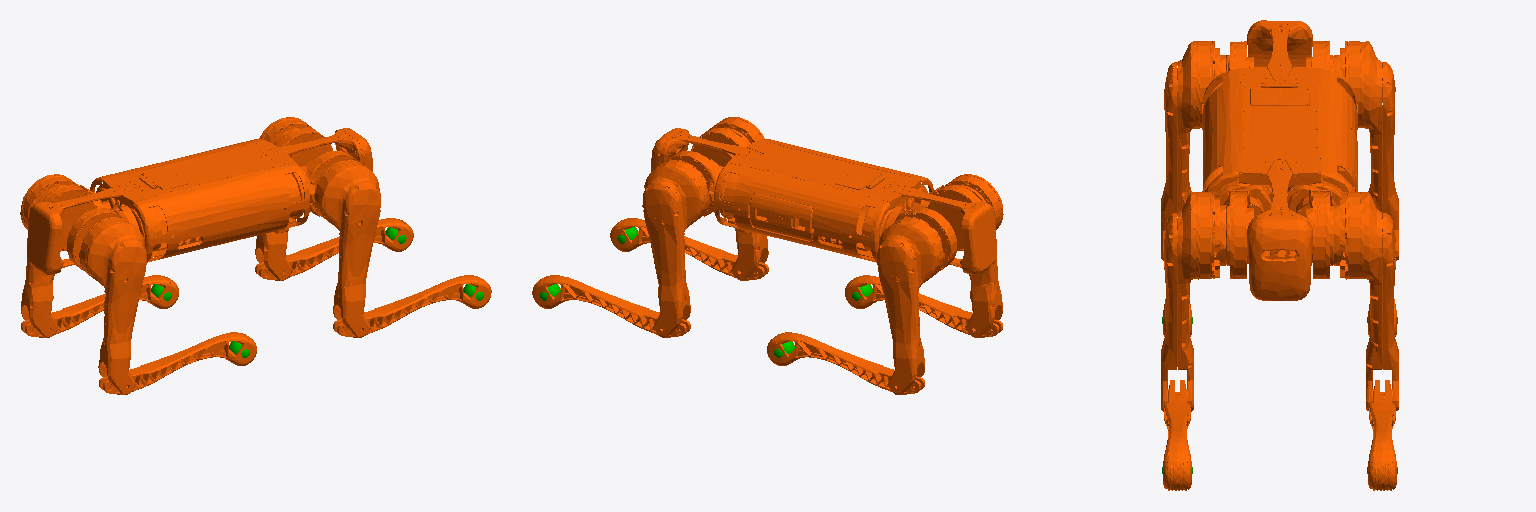
--- What the picture shows (computed from the rendered views, not written in the file) ---
3 views of the same robot in one strip: view 1: azimuth 30°, elevation 25°; view 2: azimuth 150°, elevation 25°; view 3: azimuth 270°, elevation 25° (orthographic).
Model b1_description with 31 links and 30 joints (12 revolute, 17 fixed, 1 floating), rooted at world, posed all joints at 0 but 4 set to mid-range because 0 is outside their limits (FR_calf_joint = -1.6, FL_calf_joint = -1.6, RR_calf_joint = -1.6, RL_calf_joint = -1.6).
Links seen in each view (by area): view 1: base, RR_thigh, FR_thigh, RL_thigh, RR_calf, FR_calf, RL_calf, FL_calf, FL_thigh, RL_hip, RR_hip, FL_hip (+1 smaller); view 2: base, FL_thigh, RL_thigh, RR_thigh, FL_calf, RL_calf, RR_calf, FR_calf, FR_thigh, RR_hip, RL_hip, FR_hip (+1 smaller); view 3: base, FR_thigh, FL_thigh, RR_thigh, RL_thigh, FR_calf, FL_calf, FR_hip, FL_hip, RL_hip, RR_hip.
Link boxes in pixels (x1=…): base: x1=27, y1=128, x2=372, y2=274; RR_thigh: x1=79, y1=217, x2=146, y2=394; FR_thigh: x1=314, y1=160, x2=380, y2=337; RL_thigh: x1=20, y1=174, x2=78, y2=337; RR_calf: x1=99, y1=332, x2=256, y2=394; FR_calf: x1=333, y1=275, x2=491, y2=337; RL_calf: x1=21, y1=275, x2=178, y2=337; FL_calf: x1=255, y1=218, x2=413, y2=280; FL_thigh: x1=255, y1=117, x2=314, y2=280; RL_hip: x1=42, y1=185, x2=110, y2=250; RR_hip: x1=67, y1=206, x2=139, y2=270; FL_hip: x1=274, y1=128, x2=332, y2=166; base: x1=651, y1=128, x2=996, y2=274; FL_thigh: x1=642, y1=160, x2=709, y2=337; RL_thigh: x1=877, y1=217, x2=944, y2=394; RR_thigh: x1=945, y1=174, x2=1003, y2=337; FL_calf: x1=532, y1=275, x2=690, y2=337; RL_calf: x1=767, y1=332, x2=924, y2=394; RR_calf: x1=845, y1=275, x2=1002, y2=337; FR_calf: x1=610, y1=218, x2=768, y2=280; FR_thigh: x1=708, y1=117, x2=768, y2=280; RR_hip: x1=913, y1=185, x2=981, y2=250; RL_hip: x1=885, y1=206, x2=956, y2=270; FR_hip: x1=691, y1=128, x2=749, y2=166; base: x1=1202, y1=20, x2=1357, y2=300; FR_thigh: x1=1161, y1=192, x2=1225, y2=411; FL_thigh: x1=1334, y1=192, x2=1398, y2=410; RR_thigh: x1=1161, y1=41, x2=1225, y2=260; RL_thigh: x1=1334, y1=41, x2=1398, y2=260; FR_calf: x1=1163, y1=380, x2=1191, y2=490; FL_calf: x1=1368, y1=380, x2=1396, y2=490; FR_hip: x1=1223, y1=185, x2=1264, y2=278; FL_hip: x1=1296, y1=185, x2=1335, y2=278; RL_hip: x1=1306, y1=41, x2=1333, y2=71; RR_hip: x1=1226, y1=41, x2=1253, y2=71.
Bounding box of the posed robot: 1.22 × 0.4614 × 0.4715 m (x, y, z).
Meshes: 5 distinct files referenced, 13 mesh visuals loaded (5 binary STL).

The robot description file, URDF, robot "b1_description":
<?xml version="1.0" ?>
<!-- =================================================================================== -->
<!-- |    This document was autogenerated by xacro from robot.xacro                    | -->
<!-- |    EDITING THIS FILE BY HAND IS NOT RECOMMENDED                                 | -->
<!-- =================================================================================== -->
<robot name="b1_description">

  <mujoco>
    <compiler 
    meshdir="../meshes/"
    discardvisual="false"
  />
  </mujoco>
  <link name="world"/>
  <joint name="floating_base" type="floating">
    <origin rpy="0 0 0" xyz="0 0 0"/>
    <parent link="world"/>
    <child link="base"/>
  </joint>
  <material name="black">
    <color rgba="0.0 0.0 0.0 1.0"/>
  </material>
  <material name="blue">
    <color rgba="0.0 0.0 0.8 1.0"/>
  </material>
  <material name="green">
    <color rgba="0.0 0.8 0.0 1.0"/>
  </material>
  <material name="grey">
    <color rgba="0.2 0.2 0.2 1.0"/>
  </material>
  <material name="silver">
    <color rgba="0.9137254901960784 0.9137254901960784 0.8470588235294118 1.0"/>
  </material>
  <material name="orange">
    <color rgba="1.0 0.4235294117647059 0.0392156862745098 1.0"/>
  </material>
  <material name="brown">
    <color rgba="0.8705882352941177 0.8117647058823529 0.7647058823529411 1.0"/>
  </material>
  <material name="red">
    <color rgba="0.8 0.0 0.0 1.0"/>
  </material>
  <material name="white">
    <color rgba="1.0 1.0 1.0 1.0"/>
  </material>

  <!-- Rotor related joint and link is only for demonstrate location. -->
  <!-- Actually, the rotor will rotate and the joint is not fixed. Reduction ratio should be considered. -->
  <!-- Debug mode will hung up the robot, use "true" or "false" to switch it. -->
  <!-- <xacro:if value="$(arg DEBUG)">
        <link name="world"/>
        <joint name="base_static_joint" type="fixed">
            <origin rpy="0 0 0" xyz="0 0 0"/>
            <parent link="world"/>
            <child link="base"/>
        </joint>
    </xacro:if>  -->
  <link name="base">
    <visual>
      <origin rpy="0 0 0" xyz="0 0 0"/>
      <geometry>
        <mesh filename="package://b1_description/meshes/trunk.stl" scale="1 1 1"/>
      </geometry>
      <material name="orange"/>
    </visual>
    <collision>
      <origin rpy="0 0 0" xyz="0 0 0"/>
      <geometry>
        <box size="0.647 0.3 0.15"/>
      </geometry>
    </collision>
    <!-- <collision>
            <origin rpy="0 0 0" xyz="0 0 0"/>
            <geometry>
                <mesh filename="package://b1_description/meshes/trunk.stl" scale="1 1 1"/>
            </geometry>
        </collision> -->
    <inertial>
      <origin rpy="0 0 0" xyz="0.008987 0.002243 0.003013"/>
      <mass value="25"/>
      <inertia ixx="0.183142146" ixy="-0.001379002" ixz="-0.027956055" iyy="0.756327752" iyz="0.000193774" izz="0.783777558"/>
    </inertial>
  </link>
  <joint name="imu_joint" type="fixed">
    <parent link="base"/>
    <child link="imu_link"/>
    <origin rpy="0 0 0" xyz="0 0 0"/>
  </joint>
  <link name="imu_link">
    <inertial>
      <mass value="0.001"/>
      <origin rpy="0 0 0" xyz="0 0 0"/>
      <inertia ixx="0.0001" ixy="0" ixz="0" iyy="0.000001" iyz="0" izz="0.0001"/>
    </inertial>
    <visual>
      <origin rpy="0 0 0" xyz="0 0 0"/>
      <geometry>
        <box size="0.001 0.001 0.001"/>
      </geometry>
      <material name="red"/>
    </visual>
    <collision>
      <origin rpy="0 0 0" xyz="0 0 0"/>
      <geometry>
        <box size=".001 .001 .001"/>
      </geometry>
    </collision>
  </link>
  <joint name="FR_hip_joint" type="revolute">
    <origin rpy="0 0 0" xyz="0.3455 -0.072 0"/>
    <parent link="base"/>
    <child link="FR_hip"/>
    <axis xyz="1 0 0"/>
    <dynamics damping="0" friction="0"/>
    <limit effort="91.0035" lower="-0.75" upper="0.75" velocity="19.69"/>
  </joint>
  <joint name="FR_hip_rotor_joint" type="fixed">
    <origin rpy="0 0 0" xyz="0.1955 -0.072 0"/>
    <parent link="base"/>
    <child link="FR_hip_rotor"/>
  </joint>
  <link name="FR_hip">
    <visual>
      <origin rpy="3.141592653589793 0 0" xyz="0 0 0"/>
      <geometry>
        <mesh filename="package://b1_description/meshes/hip.stl" scale="1 1 1"/>
      </geometry>
      <material name="orange"/>
    </visual>
    <collision>
      <origin rpy="1.5707963267948966 0 0" xyz="0 -0.12675 0"/>
      <geometry>
        <cylinder length="0.04" radius="0.09"/>
      </geometry>
    </collision>
    <inertial>
      <origin rpy="0 0 0" xyz="-0.020298 -0.009758 0.000109"/>
      <mass value="2.1"/>
      <inertia ixx="0.00406608" ixy="0.000288071" ixz="-4.371e-06" iyy="0.008775259" iyz="-1.811e-06" izz="0.006060348"/>
    </inertial>
  </link>
  <link name="FR_hip_rotor">
    <visual>
      <origin rpy="0 1.5707963267948966 0" xyz="0 0 0"/>
      <geometry>
        <cylinder length="0.02" radius="0.05"/>
      </geometry>
      <material name="green"/>
    </visual>
    <collision>
      <origin rpy="0 1.5707963267948966 0" xyz="0 0 0"/>
      <geometry>
        <cylinder length="0.02" radius="0.05"/>
      </geometry>
    </collision>
    <inertial>
      <origin rpy="0 0 0" xyz="0.0 0.0 0.0"/>
      <mass value="0.199"/>
      <inertia ixx="0.00039249" ixy="0.0" ixz="0.0" iyy="0.000219397" iyz="0.0" izz="0.000219397"/>
    </inertial>
  </link>
  <joint name="FR_thigh_joint" type="revolute">
    <origin rpy="0 0 0" xyz="0 -0.12675 0"/>
    <parent link="FR_hip"/>
    <child link="FR_thigh"/>
    <axis xyz="0 1 0"/>
    <dynamics damping="0" friction="0"/>
    <limit effort="93.33" lower="-1.0" upper="3.5" velocity="23.32"/>
  </joint>
  <joint name="FR_thigh_rotor_joint" type="fixed">
    <origin rpy="0 0 0" xyz="0.0 -0.00935 0"/>
    <parent link="FR_hip"/>
    <child link="FR_thigh_rotor"/>
  </joint>
  <link name="FR_thigh">
    <visual>
      <origin rpy="0 0 0" xyz="0 0 0"/>
      <geometry>
        <mesh filename="package://b1_description/meshes/thigh_mirror.stl" scale="1 1 1"/>
      </geometry>
      <material name="orange"/>
    </visual>
    <collision>
      <origin rpy="0 1.5707963267948966 0" xyz="0 0 -0.175"/>
      <geometry>
        <box size="0.35 0.05 0.08"/>
      </geometry>
    </collision>
    <inertial>
      <origin rpy="0 0 0" xyz="-0.000235 0.028704 -0.054169"/>
      <mass value="3.934"/>
      <inertia ixx="0.044459086" ixy="-0.000128738" ixz="-0.002343913" iyy="0.046023457" iyz="-0.006032996" izz="0.008696078"/>
    </inertial>
  </link>
  <link name="FR_thigh_rotor">
    <visual>
      <origin rpy="1.5707963267948966 0 0" xyz="0 0 0"/>
      <geometry>
        <cylinder length="0.02" radius="0.05"/>
      </geometry>
      <material name="green"/>
    </visual>
    <collision>
      <origin rpy="1.5707963267948966 0 0" xyz="0 0 0"/>
      <geometry>
        <cylinder length="0.02" radius="0.05"/>
      </geometry>
    </collision>
    <inertial>
      <origin rpy="0 0 0" xyz="0.0 0.0 0.0"/>
      <mass value="0.266"/>
      <inertia ixx="0.000485657" ixy="0.0" ixz="0.0" iyy="0.00091885" iyz="0.0" izz="0.000485657"/>
    </inertial>
  </link>
  <joint name="FR_calf_joint" type="revolute">
    <origin rpy="0 0 0" xyz="0 0 -0.35"/>
    <parent link="FR_thigh"/>
    <child link="FR_calf"/>
    <axis xyz="0 1 0"/>
    <dynamics damping="0" friction="0"/>
    <limit effort="140" lower="-2.6" upper="-0.6" velocity="15.55"/>
  </joint>
  <joint name="FR_calf_rotor_joint" type="fixed">
    <origin rpy="0 0 0" xyz="0.0 0.0519 0"/>
    <parent link="FR_thigh"/>
    <child link="FR_calf_rotor"/>
  </joint>
  <link name="FR_calf">
    <visual>
      <origin rpy="0 0 0" xyz="0 0 0"/>
      <geometry>
        <mesh filename="package://b1_description/meshes/calf.stl" scale="1 1 1"/>
      </geometry>
      <material name="orange"/>
    </visual>
    <collision>
      <origin rpy="0 1.5707963267948966 0" xyz="0 0 -0.175"/>
      <geometry>
        <box size="0.35 0.04 0.05"/>
      </geometry>
    </collision>
    <inertial>
      <origin rpy="0 0 0" xyz="0.005237 0.0 -0.202805"/>
      <mass value="0.857"/>
      <inertia ixx="0.015011003" ixy="5.2e-08" ixz="0.000250042" iyy="0.015159462" iyz="4.61e-07" izz="0.000375749"/>
    </inertial>
  </link>
  <link name="FR_calf_rotor">
    <visual>
      <origin rpy="1.5707963267948966 0 0" xyz="0 0 0"/>
      <geometry>
        <cylinder length="0.02" radius="0.05"/>
      </geometry>
      <material name="green"/>
    </visual>
    <collision>
      <origin rpy="1.5707963267948966 0 0" xyz="0 0 0"/>
      <geometry>
        <cylinder length="0.02" radius="0.05"/>
      </geometry>
    </collision>
    <inertial>
      <origin rpy="0 0 0" xyz="0.0 0.0 0.0"/>
      <mass value="0.266"/>
      <inertia ixx="0.000485657" ixy="0.0" ixz="0.0" iyy="0.00091885" iyz="0.0" izz="0.000485657"/>
    </inertial>
  </link>
  <joint name="FR_foot_fixed" type="fixed">
    <origin rpy="0 0 0" xyz="0 0 -0.35"/>
    <parent link="FR_calf"/>
    <child link="FR_foot"/>
  </joint>
  <link name="FR_foot">
    <visual>
      <origin rpy="0 0 0" xyz="0 0 0"/>
      <geometry>
        <sphere radius="0.03"/>
      </geometry>
      <material name="green"/>
    </visual>
    <collision>
      <origin rpy="0 0 0" xyz="0 0 0"/>
      <geometry>
        <sphere radius="0.04"/>
      </geometry>
    </collision>
    <inertial>
      <mass value="0.05"/>
      <inertia ixx="3.2000000000000005e-05" ixy="0.0" ixz="0.0" iyy="3.2000000000000005e-05" iyz="0.0" izz="3.2000000000000005e-05"/>
    </inertial>
  </link>
  <transmission name="FR_hip_tran">
    <type>transmission_interface/SimpleTransmission</type>
    <joint name="FR_hip_joint">
      <hardwareInterface>hardware_interface/EffortJointInterface</hardwareInterface>
    </joint>
    <actuator name="FR_hip_motor">
      <hardwareInterface>hardware_interface/EffortJointInterface</hardwareInterface>
      <mechanicalReduction>1</mechanicalReduction>
    </actuator>
  </transmission>
  <transmission name="FR_thigh_tran">
    <type>transmission_interface/SimpleTransmission</type>
    <joint name="FR_thigh_joint">
      <hardwareInterface>hardware_interface/EffortJointInterface</hardwareInterface>
    </joint>
    <actuator name="FR_thigh_motor">
      <hardwareInterface>hardware_interface/EffortJointInterface</hardwareInterface>
      <mechanicalReduction>1</mechanicalReduction>
    </actuator>
  </transmission>
  <transmission name="FR_calf_tran">
    <type>transmission_interface/SimpleTransmission</type>
    <joint name="FR_calf_joint">
      <hardwareInterface>hardware_interface/EffortJointInterface</hardwareInterface>
    </joint>
    <actuator name="FR_calf_motor">
      <hardwareInterface>hardware_interface/EffortJointInterface</hardwareInterface>
      <mechanicalReduction>1</mechanicalReduction>
    </actuator>
  </transmission>
  <joint name="FL_hip_joint" type="revolute">
    <origin rpy="0 0 0" xyz="0.3455 0.072 0"/>
    <parent link="base"/>
    <child link="FL_hip"/>
    <axis xyz="1 0 0"/>
    <dynamics damping="0" friction="0"/>
    <limit effort="91.0035" lower="-0.75" upper="0.75" velocity="19.69"/>
  </joint>
  <joint name="FL_hip_rotor_joint" type="fixed">
    <origin rpy="0 0 0" xyz="0.1955 0.072 0"/>
    <parent link="base"/>
    <child link="FL_hip_rotor"/>
  </joint>
  <link name="FL_hip">
    <visual>
      <origin rpy="0 0 0" xyz="0 0 0"/>
      <geometry>
        <mesh filename="package://b1_description/meshes/hip.stl" scale="1 1 1"/>
      </geometry>
      <material name="orange"/>
    </visual>
    <collision>
      <origin rpy="1.5707963267948966 0 0" xyz="0 0.12675 0"/>
      <geometry>
        <cylinder length="0.04" radius="0.09"/>
      </geometry>
    </collision>
    <inertial>
      <origin rpy="0 0 0" xyz="-0.020298 0.009758 0.000109"/>
      <mass value="2.1"/>
      <inertia ixx="0.00406608" ixy="-0.000288071" ixz="-4.371e-06" iyy="0.008775259" iyz="1.811e-06" izz="0.006060348"/>
    </inertial>
  </link>
  <link name="FL_hip_rotor">
    <visual>
      <origin rpy="0 1.5707963267948966 0" xyz="0 0 0"/>
      <geometry>
        <cylinder length="0.02" radius="0.05"/>
      </geometry>
      <material name="green"/>
    </visual>
    <collision>
      <origin rpy="0 1.5707963267948966 0" xyz="0 0 0"/>
      <geometry>
        <cylinder length="0.02" radius="0.05"/>
      </geometry>
    </collision>
    <inertial>
      <origin rpy="0 0 0" xyz="0.0 0.0 0.0"/>
      <mass value="0.199"/>
      <inertia ixx="0.00039249" ixy="0.0" ixz="0.0" iyy="0.000219397" iyz="0.0" izz="0.000219397"/>
    </inertial>
  </link>
  <joint name="FL_thigh_joint" type="revolute">
    <origin rpy="0 0 0" xyz="0 0.12675 0"/>
    <parent link="FL_hip"/>
    <child link="FL_thigh"/>
    <axis xyz="0 1 0"/>
    <dynamics damping="0" friction="0"/>
    <limit effort="93.33" lower="-1.0" upper="3.5" velocity="23.32"/>
  </joint>
  <joint name="FL_thigh_rotor_joint" type="fixed">
    <origin rpy="0 0 0" xyz="0.0 0.00935 0"/>
    <parent link="FL_hip"/>
    <child link="FL_thigh_rotor"/>
  </joint>
  <link name="FL_thigh">
    <visual>
      <origin rpy="0 0 0" xyz="0 0 0"/>
      <geometry>
        <mesh filename="package://b1_description/meshes/thigh.stl" scale="1 1 1"/>
      </geometry>
      <material name="orange"/>
    </visual>
    <collision>
      <origin rpy="0 1.5707963267948966 0" xyz="0 0 -0.175"/>
      <geometry>
        <box size="0.35 0.05 0.08"/>
      </geometry>
    </collision>
    <inertial>
      <origin rpy="0 0 0" xyz="-0.000235 -0.028704 -0.054169"/>
      <mass value="3.934"/>
      <inertia ixx="0.044459086" ixy="0.000128738" ixz="-0.002343913" iyy="0.046023457" iyz="0.006032996" izz="0.008696078"/>
    </inertial>
  </link>
  <link name="FL_thigh_rotor">
    <visual>
      <origin rpy="1.5707963267948966 0 0" xyz="0 0 0"/>
      <geometry>
        <cylinder length="0.02" radius="0.05"/>
      </geometry>
      <material name="green"/>
    </visual>
    <collision>
      <origin rpy="1.5707963267948966 0 0" xyz="0 0 0"/>
      <geometry>
        <cylinder length="0.02" radius="0.05"/>
      </geometry>
    </collision>
    <inertial>
      <origin rpy="0 0 0" xyz="0.0 0.0 0.0"/>
      <mass value="0.266"/>
      <inertia ixx="0.000485657" ixy="0.0" ixz="0.0" iyy="0.00091885" iyz="0.0" izz="0.000485657"/>
    </inertial>
  </link>
  <joint name="FL_calf_joint" type="revolute">
    <origin rpy="0 0 0" xyz="0 0 -0.35"/>
    <parent link="FL_thigh"/>
    <child link="FL_calf"/>
    <axis xyz="0 1 0"/>
    <dynamics damping="0" friction="0"/>
    <limit effort="140" lower="-2.6" upper="-0.6" velocity="15.55"/>
  </joint>
  <joint name="FL_calf_rotor_joint" type="fixed">
    <origin rpy="0 0 0" xyz="0.0 -0.0519 0"/>
    <parent link="FL_thigh"/>
    <child link="FL_calf_rotor"/>
  </joint>
  <link name="FL_calf">
    <visual>
      <origin rpy="0 0 0" xyz="0 0 0"/>
      <geometry>
        <mesh filename="package://b1_description/meshes/calf.stl" scale="1 1 1"/>
      </geometry>
      <material name="orange"/>
    </visual>
    <collision>
      <origin rpy="0 1.5707963267948966 0" xyz="0 0 -0.175"/>
      <geometry>
        <box size="0.35 0.04 0.05"/>
      </geometry>
    </collision>
    <inertial>
      <origin rpy="0 0 0" xyz="0.005237 0.0 -0.202805"/>
      <mass value="0.857"/>
      <inertia ixx="0.015011003" ixy="5.2e-08" ixz="0.000250042" iyy="0.015159462" iyz="4.61e-07" izz="0.000375749"/>
    </inertial>
  </link>
  <link name="FL_calf_rotor">
    <visual>
      <origin rpy="1.5707963267948966 0 0" xyz="0 0 0"/>
      <geometry>
        <cylinder length="0.02" radius="0.05"/>
      </geometry>
      <material name="green"/>
    </visual>
    <collision>
      <origin rpy="1.5707963267948966 0 0" xyz="0 0 0"/>
      <geometry>
        <cylinder length="0.02" radius="0.05"/>
      </geometry>
    </collision>
    <inertial>
      <origin rpy="0 0 0" xyz="0.0 0.0 0.0"/>
      <mass value="0.266"/>
      <inertia ixx="0.000485657" ixy="0.0" ixz="0.0" iyy="0.00091885" iyz="0.0" izz="0.000485657"/>
    </inertial>
  </link>
  <joint name="FL_foot_fixed" type="fixed">
    <origin rpy="0 0 0" xyz="0 0 -0.35"/>
    <parent link="FL_calf"/>
    <child link="FL_foot"/>
  </joint>
  <link name="FL_foot">
    <visual>
      <origin rpy="0 0 0" xyz="0 0 0"/>
      <geometry>
        <sphere radius="0.03"/>
      </geometry>
      <material name="green"/>
    </visual>
    <collision>
      <origin rpy="0 0 0" xyz="0 0 0"/>
      <geometry>
        <sphere radius="0.04"/>
      </geometry>
    </collision>
    <inertial>
      <mass value="0.05"/>
      <inertia ixx="3.2000000000000005e-05" ixy="0.0" ixz="0.0" iyy="3.2000000000000005e-05" iyz="0.0" izz="3.2000000000000005e-05"/>
    </inertial>
  </link>
  <transmission name="FL_hip_tran">
    <type>transmission_interface/SimpleTransmission</type>
    <joint name="FL_hip_joint">
      <hardwareInterface>hardware_interface/EffortJointInterface</hardwareInterface>
    </joint>
    <actuator name="FL_hip_motor">
      <hardwareInterface>hardware_interface/EffortJointInterface</hardwareInterface>
      <mechanicalReduction>1</mechanicalReduction>
    </actuator>
  </transmission>
  <transmission name="FL_thigh_tran">
    <type>transmission_interface/SimpleTransmission</type>
    <joint name="FL_thigh_joint">
      <hardwareInterface>hardware_interface/EffortJointInterface</hardwareInterface>
    </joint>
    <actuator name="FL_thigh_motor">
      <hardwareInterface>hardware_interface/EffortJointInterface</hardwareInterface>
      <mechanicalReduction>1</mechanicalReduction>
    </actuator>
  </transmission>
  <transmission name="FL_calf_tran">
    <type>transmission_interface/SimpleTransmission</type>
    <joint name="FL_calf_joint">
      <hardwareInterface>hardware_interface/EffortJointInterface</hardwareInterface>
    </joint>
    <actuator name="FL_calf_motor">
      <hardwareInterface>hardware_interface/EffortJointInterface</hardwareInterface>
      <mechanicalReduction>1</mechanicalReduction>
    </actuator>
  </transmission>
  <joint name="RR_hip_joint" type="revolute">
    <origin rpy="0 0 0" xyz="-0.3455 -0.072 0"/>
    <parent link="base"/>
    <child link="RR_hip"/>
    <axis xyz="1 0 0"/>
    <dynamics damping="0" friction="0"/>
    <limit effort="91.0035" lower="-0.75" upper="0.75" velocity="19.69"/>
  </joint>
  <joint name="RR_hip_rotor_joint" type="fixed">
    <origin rpy="0 0 0" xyz="-0.1955 -0.072 0"/>
    <parent link="base"/>
    <child link="RR_hip_rotor"/>
  </joint>
  <link name="RR_hip">
    <visual>
      <origin rpy="3.141592653589793 3.141592653589793 0" xyz="0 0 0"/>
      <geometry>
        <mesh filename="package://b1_description/meshes/hip.stl" scale="1 1 1"/>
      </geometry>
      <material name="orange"/>
    </visual>
    <collision>
      <origin rpy="1.5707963267948966 0 0" xyz="0 -0.12675 0"/>
      <geometry>
        <cylinder length="0.04" radius="0.09"/>
      </geometry>
    </collision>
    <inertial>
      <origin rpy="0 0 0" xyz="0.020298 -0.009758 0.000109"/>
      <mass value="2.1"/>
      <inertia ixx="0.00406608" ixy="-0.000288071" ixz="4.371e-06" iyy="0.008775259" iyz="-1.811e-06" izz="0.006060348"/>
    </inertial>
  </link>
  <link name="RR_hip_rotor">
    <visual>
      <origin rpy="0 1.5707963267948966 0" xyz="0 0 0"/>
      <geometry>
        <cylinder length="0.02" radius="0.05"/>
      </geometry>
      <material name="green"/>
    </visual>
    <collision>
      <origin rpy="0 1.5707963267948966 0" xyz="0 0 0"/>
      <geometry>
        <cylinder length="0.02" radius="0.05"/>
      </geometry>
    </collision>
    <inertial>
      <origin rpy="0 0 0" xyz="0.0 0.0 0.0"/>
      <mass value="0.199"/>
      <inertia ixx="0.00039249" ixy="0.0" ixz="0.0" iyy="0.000219397" iyz="0.0" izz="0.000219397"/>
    </inertial>
  </link>
  <joint name="RR_thigh_joint" type="revolute">
    <origin rpy="0 0 0" xyz="0 -0.12675 0"/>
    <parent link="RR_hip"/>
    <child link="RR_thigh"/>
    <axis xyz="0 1 0"/>
    <dynamics damping="0" friction="0"/>
    <limit effort="93.33" lower="-1.0" upper="3.5" velocity="23.32"/>
  </joint>
  <joint name="RR_thigh_rotor_joint" type="fixed">
    <origin rpy="0 0 0" xyz="0.0 -0.00935 0"/>
    <parent link="RR_hip"/>
    <child link="RR_thigh_rotor"/>
  </joint>
  <link name="RR_thigh">
    <visual>
      <origin rpy="0 0 0" xyz="0 0 0"/>
      <geometry>
        <mesh filename="package://b1_description/meshes/thigh_mirror.stl" scale="1 1 1"/>
      </geometry>
      <material name="orange"/>
    </visual>
    <collision>
      <origin rpy="0 1.5707963267948966 0" xyz="0 0 -0.175"/>
      <geometry>
        <box size="0.35 0.05 0.08"/>
      </geometry>
    </collision>
    <inertial>
      <origin rpy="0 0 0" xyz="-0.000235 0.028704 -0.054169"/>
      <mass value="3.934"/>
      <inertia ixx="0.044459086" ixy="-0.000128738" ixz="-0.002343913" iyy="0.046023457" iyz="-0.006032996" izz="0.008696078"/>
    </inertial>
  </link>
  <link name="RR_thigh_rotor">
    <visual>
      <origin rpy="1.5707963267948966 0 0" xyz="0 0 0"/>
      <geometry>
        <cylinder length="0.02" radius="0.05"/>
      </geometry>
      <material name="green"/>
    </visual>
    <collision>
      <origin rpy="1.5707963267948966 0 0" xyz="0 0 0"/>
      <geometry>
        <cylinder length="0.02" radius="0.05"/>
      </geometry>
    </collision>
    <inertial>
      <origin rpy="0 0 0" xyz="0.0 0.0 0.0"/>
      <mass value="0.266"/>
      <inertia ixx="0.000485657" ixy="0.0" ixz="0.0" iyy="0.00091885" iyz="0.0" izz="0.000485657"/>
    </inertial>
  </link>
  <joint name="RR_calf_joint" type="revolute">
    <origin rpy="0 0 0" xyz="0 0 -0.35"/>
    <parent link="RR_thigh"/>
    <child link="RR_calf"/>
    <axis xyz="0 1 0"/>
    <dynamics damping="0" friction="0"/>
    <limit effort="140" lower="-2.6" upper="-0.6" velocity="15.55"/>
  </joint>
  <joint name="RR_calf_rotor_joint" type="fixed">
    <origin rpy="0 0 0" xyz="0.0 0.0519 0"/>
    <parent link="RR_thigh"/>
    <child link="RR_calf_rotor"/>
  </joint>
  <link name="RR_calf">
    <visual>
      <origin rpy="0 0 0" xyz="0 0 0"/>
      <geometry>
        <mesh filename="package://b1_description/meshes/calf.stl" scale="1 1 1"/>
      </geometry>
      <material name="orange"/>
    </visual>
    <collision>
      <origin rpy="0 1.5707963267948966 0" xyz="0 0 -0.175"/>
      <geometry>
        <box size="0.35 0.04 0.05"/>
      </geometry>
    </collision>
    <inertial>
      <origin rpy="0 0 0" xyz="0.005237 0.0 -0.202805"/>
      <mass value="0.857"/>
      <inertia ixx="0.015011003" ixy="5.2e-08" ixz="0.000250042" iyy="0.015159462" iyz="4.61e-07" izz="0.000375749"/>
    </inertial>
  </link>
  <link name="RR_calf_rotor">
    <visual>
      <origin rpy="1.5707963267948966 0 0" xyz="0 0 0"/>
      <geometry>
        <cylinder length="0.02" radius="0.05"/>
      </geometry>
      <material name="green"/>
    </visual>
    <collision>
      <origin rpy="1.5707963267948966 0 0" xyz="0 0 0"/>
      <geometry>
        <cylinder length="0.02" radius="0.05"/>
      </geometry>
    </collision>
    <inertial>
      <origin rpy="0 0 0" xyz="0.0 0.0 0.0"/>
      <mass value="0.266"/>
      <inertia ixx="0.000485657" ixy="0.0" ixz="0.0" iyy="0.00091885" iyz="0.0" izz="0.000485657"/>
    </inertial>
  </link>
  <joint name="RR_foot_fixed" type="fixed">
    <origin rpy="0 0 0" xyz="0 0 -0.35"/>
    <parent link="RR_calf"/>
    <child link="RR_foot"/>
  </joint>
  <link name="RR_foot">
    <visual>
      <origin rpy="0 0 0" xyz="0 0 0"/>
      <geometry>
        <sphere radius="0.03"/>
      </geometry>
      <material name="green"/>
    </visual>
    <collision>
      <origin rpy="0 0 0" xyz="0 0 0"/>
      <geometry>
        <sphere radius="0.04"/>
      </geometry>
    </collision>
    <inertial>
      <mass value="0.05"/>
      <inertia ixx="3.2000000000000005e-05" ixy="0.0" ixz="0.0" iyy="3.2000000000000005e-05" iyz="0.0" izz="3.2000000000000005e-05"/>
    </inertial>
  </link>
  <transmission name="RR_hip_tran">
    <type>transmission_interface/SimpleTransmission</type>
    <joint name="RR_hip_joint">
      <hardwareInterface>hardware_interface/EffortJointInterface</hardwareInterface>
    </joint>
    <actuator name="RR_hip_motor">
      <hardwareInterface>hardware_interface/EffortJointInterface</hardwareInterface>
      <mechanicalReduction>1</mechanicalReduction>
    </actuator>
  </transmission>
  <transmission name="RR_thigh_tran">
    <type>transmission_interface/SimpleTransmission</type>
    <joint name="RR_thigh_joint">
      <hardwareInterface>hardware_interface/EffortJointInterface</hardwareInterface>
    </joint>
    <actuator name="RR_thigh_motor">
      <hardwareInterface>hardware_interface/EffortJointInterface</hardwareInterface>
      <mechanicalReduction>1</mechanicalReduction>
    </actuator>
  </transmission>
  <transmission name="RR_calf_tran">
    <type>transmission_interface/SimpleTransmission</type>
    <joint name="RR_calf_joint">
      <hardwareInterface>hardware_interface/EffortJointInterface</hardwareInterface>
    </joint>
    <actuator name="RR_calf_motor">
      <hardwareInterface>hardware_interface/EffortJointInterface</hardwareInterface>
      <mechanicalReduction>1</mechanicalReduction>
    </actuator>
  </transmission>
  <joint name="RL_hip_joint" type="revolute">
    <origin rpy="0 0 0" xyz="-0.3455 0.072 0"/>
    <parent link="base"/>
    <child link="RL_hip"/>
    <axis xyz="1 0 0"/>
    <dynamics damping="0" friction="0"/>
    <limit effort="91.0035" lower="-0.75" upper="0.75" velocity="19.69"/>
  </joint>
  <joint name="RL_hip_rotor_joint" type="fixed">
    <origin rpy="0 0 0" xyz="-0.1955 0.072 0"/>
    <parent link="base"/>
    <child link="RL_hip_rotor"/>
  </joint>
  <link name="RL_hip">
    <visual>
      <origin rpy="0 3.141592653589793 0" xyz="0 0 0"/>
      <geometry>
        <mesh filename="package://b1_description/meshes/hip.stl" scale="1 1 1"/>
      </geometry>
      <material name="orange"/>
    </visual>
    <collision>
      <origin rpy="1.5707963267948966 0 0" xyz="0 0.12675 0"/>
      <geometry>
        <cylinder length="0.04" radius="0.09"/>
      </geometry>
    </collision>
    <inertial>
      <origin rpy="0 0 0" xyz="0.020298 0.009758 0.000109"/>
      <mass value="2.1"/>
      <inertia ixx="0.00406608" ixy="0.000288071" ixz="4.371e-06" iyy="0.008775259" iyz="1.811e-06" izz="0.006060348"/>
    </inertial>
  </link>
  <link name="RL_hip_rotor">
    <visual>
      <origin rpy="0 1.5707963267948966 0" xyz="0 0 0"/>
      <geometry>
        <cylinder length="0.02" radius="0.05"/>
      </geometry>
      <material name="green"/>
    </visual>
    <collision>
      <origin rpy="0 1.5707963267948966 0" xyz="0 0 0"/>
      <geometry>
        <cylinder length="0.02" radius="0.05"/>
      </geometry>
    </collision>
    <inertial>
      <origin rpy="0 0 0" xyz="0.0 0.0 0.0"/>
      <mass value="0.199"/>
      <inertia ixx="0.00039249" ixy="0.0" ixz="0.0" iyy="0.000219397" iyz="0.0" izz="0.000219397"/>
    </inertial>
  </link>
  <joint name="RL_thigh_joint" type="revolute">
    <origin rpy="0 0 0" xyz="0 0.12675 0"/>
    <parent link="RL_hip"/>
    <child link="RL_thigh"/>
    <axis xyz="0 1 0"/>
    <dynamics damping="0" friction="0"/>
    <limit effort="93.33" lower="-1.0" upper="3.5" velocity="23.32"/>
  </joint>
  <joint name="RL_thigh_rotor_joint" type="fixed">
    <origin rpy="0 0 0" xyz="0.0 0.00935 0"/>
    <parent link="RL_hip"/>
    <child link="RL_thigh_rotor"/>
  </joint>
  <link name="RL_thigh">
    <visual>
      <origin rpy="0 0 0" xyz="0 0 0"/>
      <geometry>
        <mesh filename="package://b1_description/meshes/thigh.stl" scale="1 1 1"/>
      </geometry>
      <material name="orange"/>
    </visual>
    <collision>
      <origin rpy="0 1.5707963267948966 0" xyz="0 0 -0.175"/>
      <geometry>
        <box size="0.35 0.05 0.08"/>
      </geometry>
    </collision>
    <inertial>
      <origin rpy="0 0 0" xyz="-0.000235 -0.028704 -0.054169"/>
      <mass value="3.934"/>
      <inertia ixx="0.044459086" ixy="0.000128738" ixz="-0.002343913" iyy="0.046023457" iyz="0.006032996" izz="0.008696078"/>
    </inertial>
  </link>
  <link name="RL_thigh_rotor">
    <visual>
      <origin rpy="1.5707963267948966 0 0" xyz="0 0 0"/>
      <geometry>
        <cylinder length="0.02" radius="0.05"/>
      </geometry>
      <material name="green"/>
    </visual>
    <collision>
      <origin rpy="1.5707963267948966 0 0" xyz="0 0 0"/>
      <geometry>
        <cylinder length="0.02" radius="0.05"/>
      </geometry>
    </collision>
    <inertial>
      <origin rpy="0 0 0" xyz="0.0 0.0 0.0"/>
      <mass value="0.266"/>
      <inertia ixx="0.000485657" ixy="0.0" ixz="0.0" iyy="0.00091885" iyz="0.0" izz="0.000485657"/>
    </inertial>
  </link>
  <joint name="RL_calf_joint" type="revolute">
    <origin rpy="0 0 0" xyz="0 0 -0.35"/>
    <parent link="RL_thigh"/>
    <child link="RL_calf"/>
    <axis xyz="0 1 0"/>
    <dynamics damping="0" friction="0"/>
    <limit effort="140" lower="-2.6" upper="-0.6" velocity="15.55"/>
  </joint>
  <joint name="RL_calf_rotor_joint" type="fixed">
    <origin rpy="0 0 0" xyz="0.0 -0.0519 0"/>
    <parent link="RL_thigh"/>
    <child link="RL_calf_rotor"/>
  </joint>
  <link name="RL_calf">
    <visual>
      <origin rpy="0 0 0" xyz="0 0 0"/>
      <geometry>
        <mesh filename="package://b1_description/meshes/calf.stl" scale="1 1 1"/>
      </geometry>
      <material name="orange"/>
    </visual>
    <collision>
      <origin rpy="0 1.5707963267948966 0" xyz="0 0 -0.175"/>
      <geometry>
        <box size="0.35 0.04 0.05"/>
      </geometry>
    </collision>
    <inertial>
      <origin rpy="0 0 0" xyz="0.005237 0.0 -0.202805"/>
      <mass value="0.857"/>
      <inertia ixx="0.015011003" ixy="5.2e-08" ixz="0.000250042" iyy="0.015159462" iyz="4.61e-07" izz="0.000375749"/>
    </inertial>
  </link>
  <link name="RL_calf_rotor">
    <visual>
      <origin rpy="1.5707963267948966 0 0" xyz="0 0 0"/>
      <geometry>
        <cylinder length="0.02" radius="0.05"/>
      </geometry>
      <material name="green"/>
    </visual>
    <collision>
      <origin rpy="1.5707963267948966 0 0" xyz="0 0 0"/>
      <geometry>
        <cylinder length="0.02" radius="0.05"/>
      </geometry>
    </collision>
    <inertial>
      <origin rpy="0 0 0" xyz="0.0 0.0 0.0"/>
      <mass value="0.266"/>
      <inertia ixx="0.000485657" ixy="0.0" ixz="0.0" iyy="0.00091885" iyz="0.0" izz="0.000485657"/>
    </inertial>
  </link>
  <joint name="RL_foot_fixed" type="fixed">
    <origin rpy="0 0 0" xyz="0 0 -0.35"/>
    <parent link="RL_calf"/>
    <child link="RL_foot"/>
  </joint>
  <link name="RL_foot">
    <visual>
      <origin rpy="0 0 0" xyz="0 0 0"/>
      <geometry>
        <sphere radius="0.03"/>
      </geometry>
      <material name="green"/>
    </visual>
    <collision>
      <origin rpy="0 0 0" xyz="0 0 0"/>
      <geometry>
        <sphere radius="0.04"/>
      </geometry>
    </collision>
    <inertial>
      <mass value="0.05"/>
      <inertia ixx="3.2000000000000005e-05" ixy="0.0" ixz="0.0" iyy="3.2000000000000005e-05" iyz="0.0" izz="3.2000000000000005e-05"/>
    </inertial>
  </link>
  <transmission name="RL_hip_tran">
    <type>transmission_interface/SimpleTransmission</type>
    <joint name="RL_hip_joint">
      <hardwareInterface>hardware_interface/EffortJointInterface</hardwareInterface>
    </joint>
    <actuator name="RL_hip_motor">
      <hardwareInterface>hardware_interface/EffortJointInterface</hardwareInterface>
      <mechanicalReduction>1</mechanicalReduction>
    </actuator>
  </transmission>
  <transmission name="RL_thigh_tran">
    <type>transmission_interface/SimpleTransmission</type>
    <joint name="RL_thigh_joint">
      <hardwareInterface>hardware_interface/EffortJointInterface</hardwareInterface>
    </joint>
    <actuator name="RL_thigh_motor">
      <hardwareInterface>hardware_interface/EffortJointInterface</hardwareInterface>
      <mechanicalReduction>1</mechanicalReduction>
    </actuator>
  </transmission>
  <transmission name="RL_calf_tran">
    <type>transmission_interface/SimpleTransmission</type>
    <joint name="RL_calf_joint">
      <hardwareInterface>hardware_interface/EffortJointInterface</hardwareInterface>
    </joint>
    <actuator name="RL_calf_motor">
      <hardwareInterface>hardware_interface/EffortJointInterface</hardwareInterface>
      <mechanicalReduction>1</mechanicalReduction>
    </actuator>
  </transmission>
  <!-- <xacro:stairs stairs="15" xpos="0" ypos="2.0" zpos="0" /> -->
</robot>
